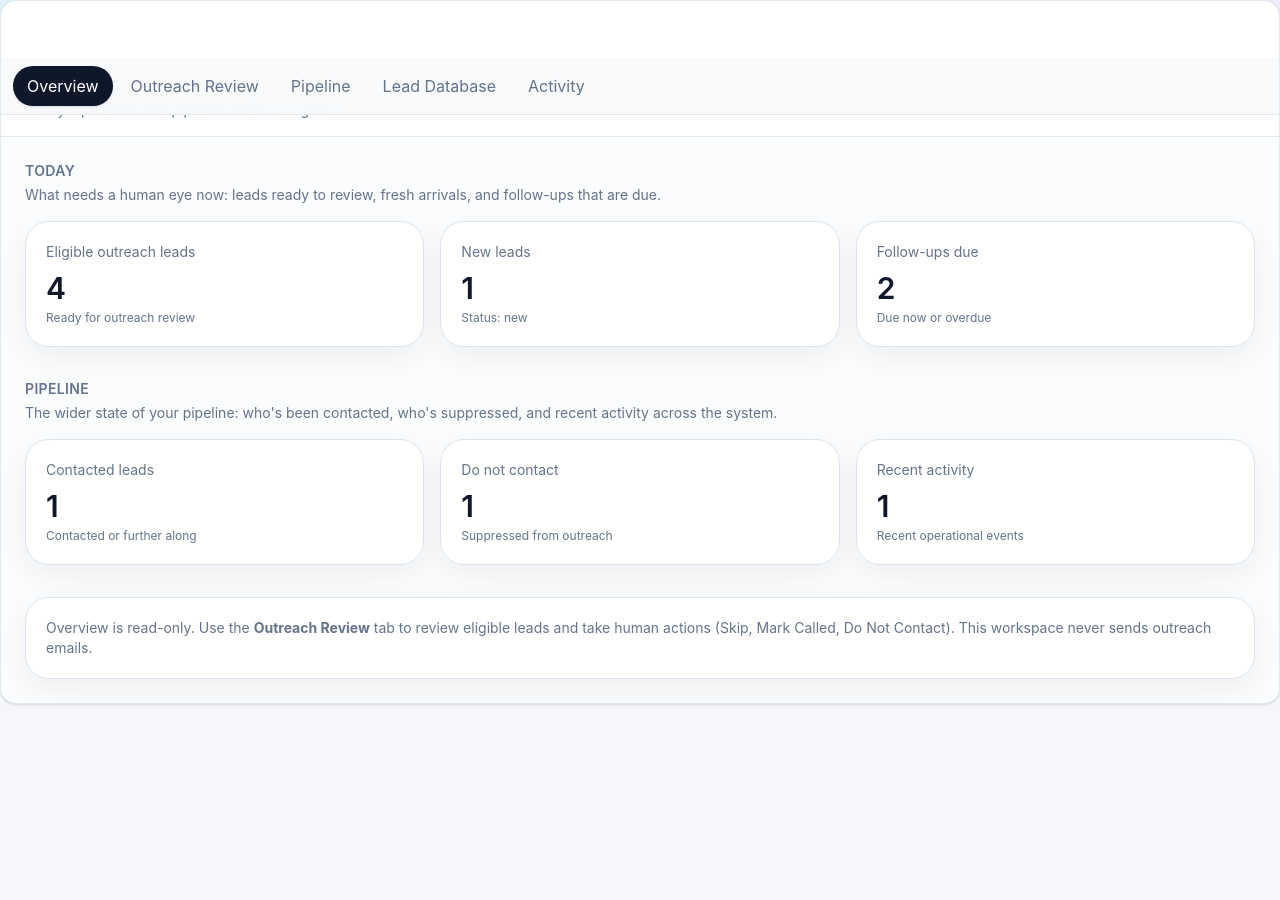
Test: SalesWorkspaceClient › renders the Lead Database tab and lists leads
The image size is (1280, 900).
Expected: the text "Eligible outreach leads" is shown, x1=46 y1=243 x2=195 y2=260
Click the tab "Lead Database" at (439,86), box x1=369 y1=66 x2=510 y2=106
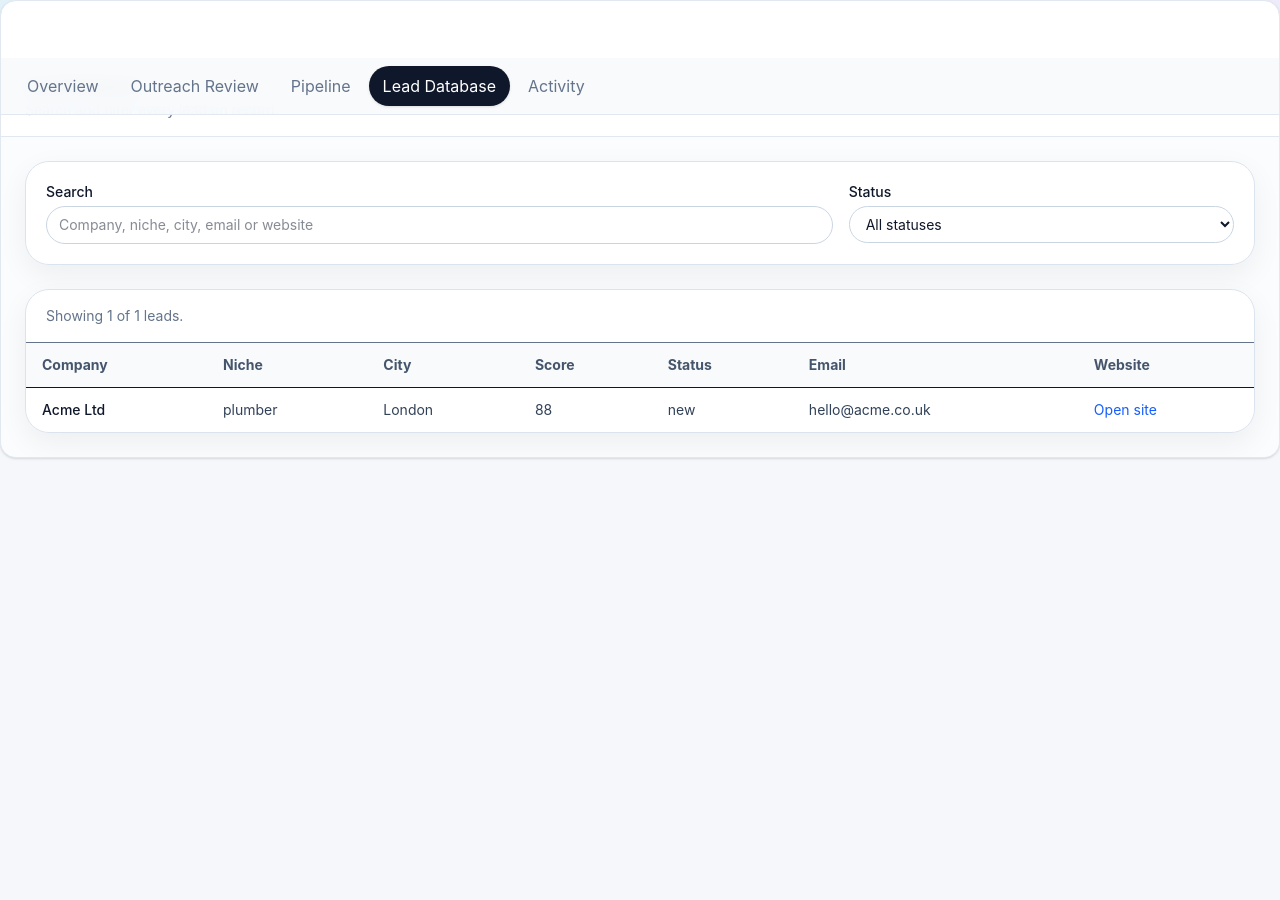
Now the text "Acme Ltd" is shown, box x1=26 y1=388 x2=207 y2=432
Now the text "hello@acme.co.uk" is shown, box x1=793 y1=388 x2=1078 y2=432
